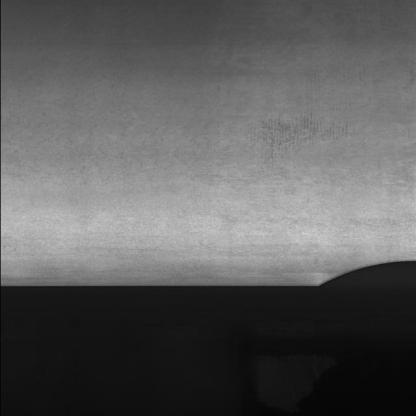crescent_gap: (304, 249, 416, 292)
